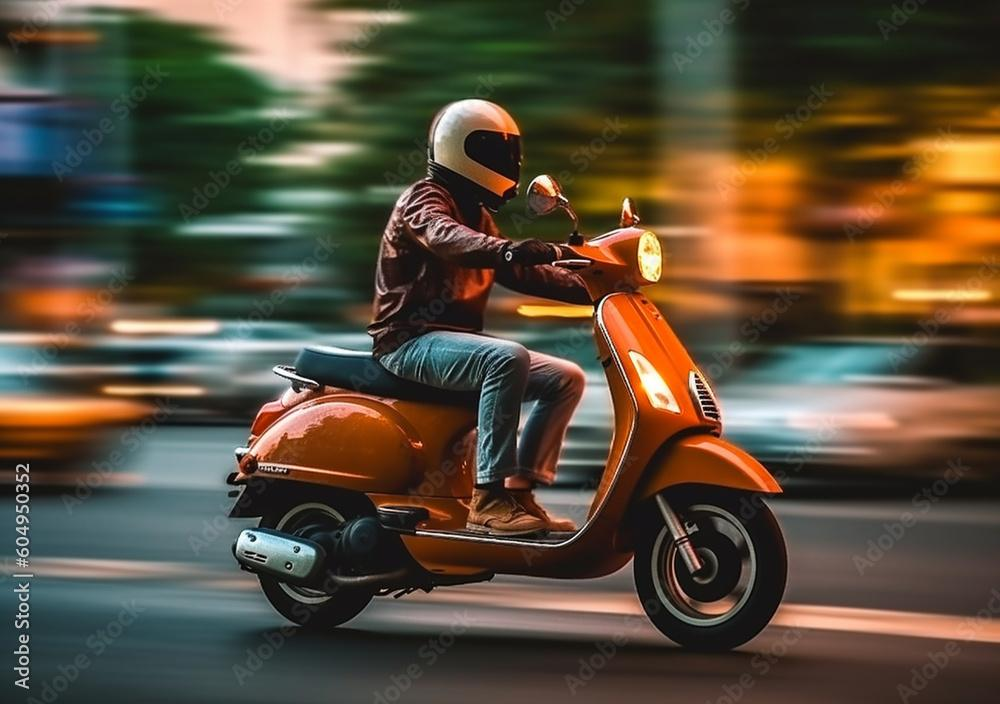helmet: (426, 97, 524, 214)
